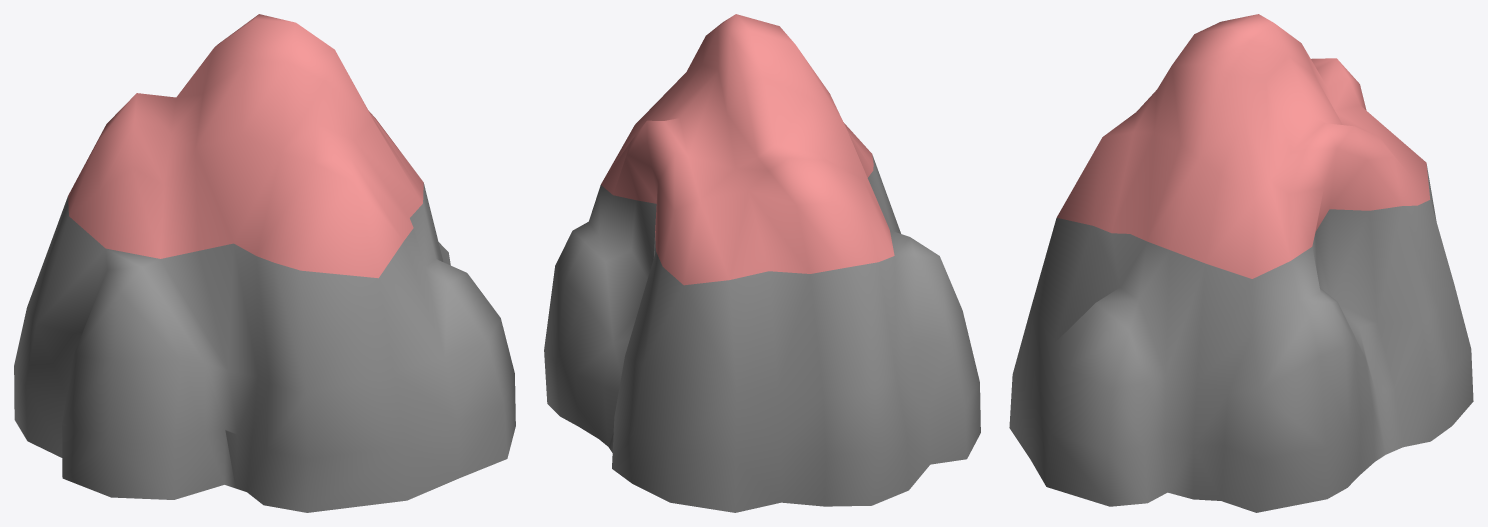
The model's file is beachBstone4.gltf.
The picture shows the model from 3 angles, left to right: view 1: azimuth 30°, elevation 25°; view 2: azimuth 150°, elevation 25°; view 3: azimuth 270°, elevation 25°; orthographic projection. The views are drawn at different scales.
Visible parts, largest first — view 1: beachBstone4; view 2: beachBstone4; view 3: beachBstone4.
Part boxes in pixels (x1,y1,x2,y2): beachBstone4: (14, 14, 515, 512); beachBstone4: (544, 14, 980, 512); beachBstone4: (1009, 14, 1473, 512).
Bounding box in the file's own units: 2.96 × 2.74 × 2.88.
